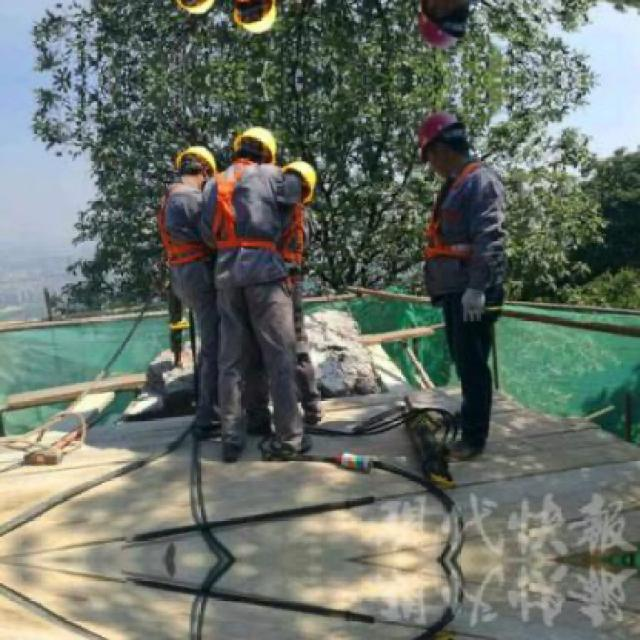helmet: (412, 105, 468, 177), (412, 0, 470, 57), (229, 123, 280, 175), (171, 142, 217, 189), (275, 158, 320, 204), (227, 0, 280, 38), (171, 0, 218, 20)
